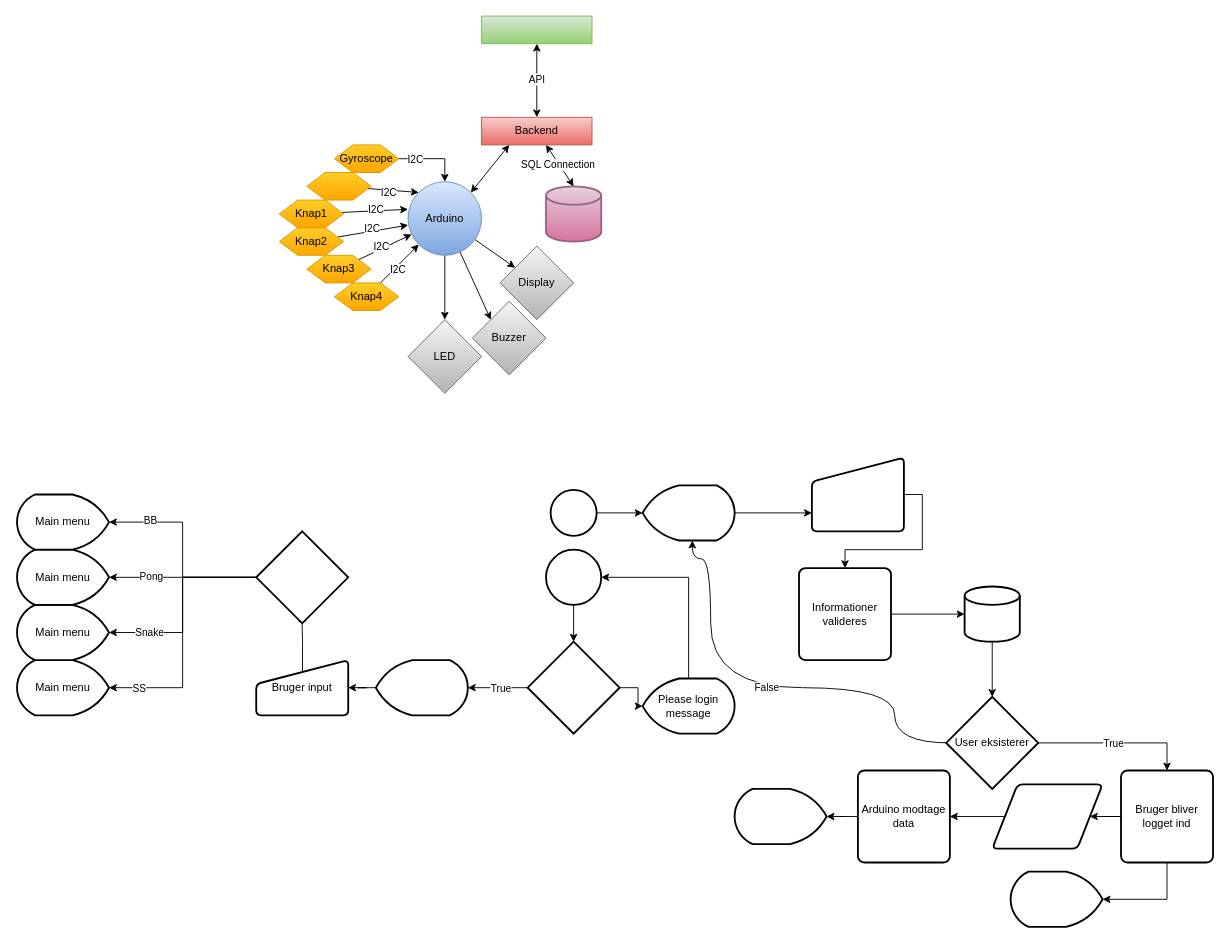
Some shapes in this 1229 by 944 pixel diagram are drawn without their labels. The shapes that lost their labels are listed below. From the top down, each one's box as (x1, y1, x2, y2) in pixels, then its label:
(481, 15, 592, 44): Dashboard (App)
(306, 172, 371, 200): Knap0
(545, 185, 602, 242): DB
(641, 484, 735, 541): Login side
(811, 456, 904, 532): Bruger oplysninger indtastes
(374, 659, 468, 716): Vælg spil skærm
(526, 640, 620, 734): Logget ind
(733, 788, 827, 845): Vælg spil menu åbnes
(991, 783, 1103, 849): Login info sendes til arduino
(1009, 870, 1103, 927): Dashboard
